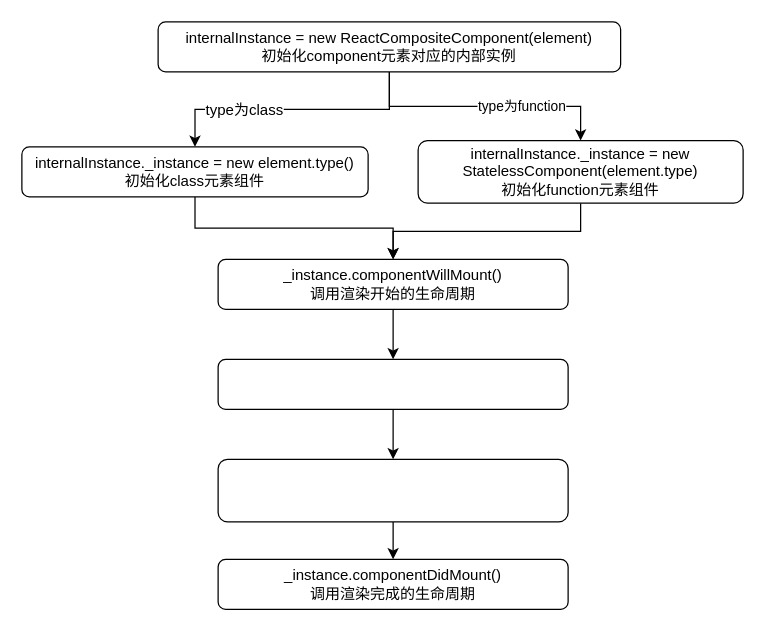
This 765x631 diagram has some shape labels left out. The centre of each missing label's shape, as x and y in pixels:
"...... 递归渲染所渲染的元素" goes at pixel 392 490.
"_renderedElement = _instance.render() 调用组件的render方法获取组件所渲染的元素" goes at pixel 392 383.
